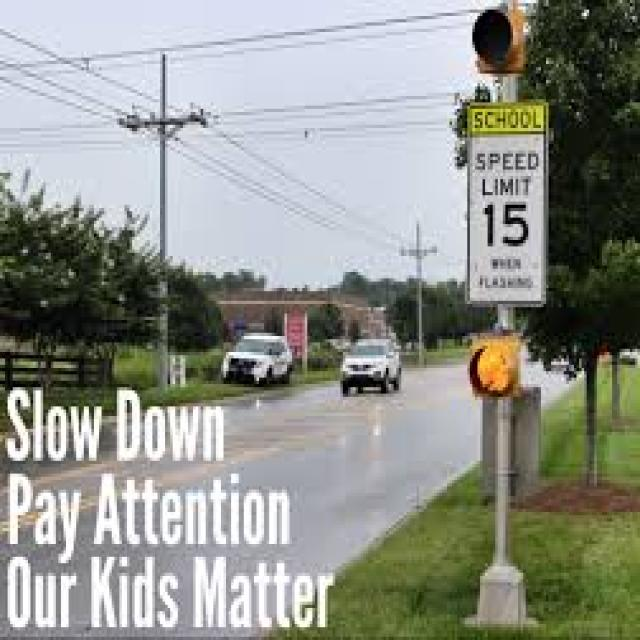speedLimit15: (465, 122, 546, 256)
